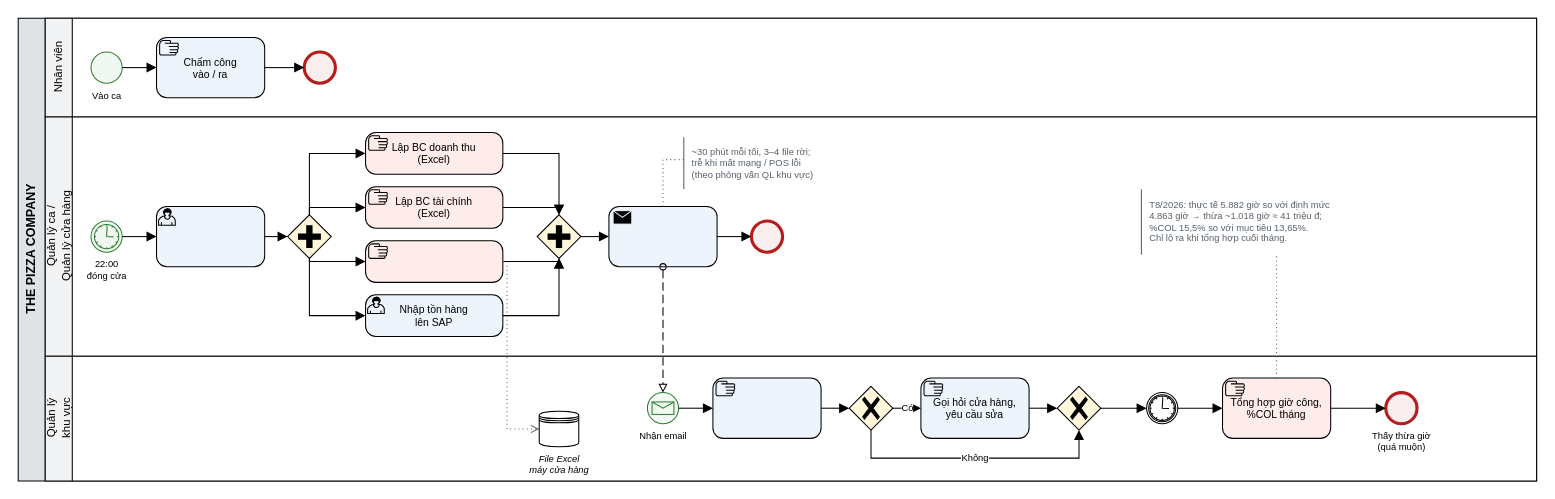
Some shapes in this 1555 by 499 pixel diagram are drawn without their labels. The centre of each missing label's shape, as x and y in pixels:
"Cuối tháng" goes at (x=1162, y=408).
"Ghi giờ công thực tế vào file (giả định)" goes at (x=434, y=261).
"Gửi email báo cáo" goes at (x=662, y=236).
"Hết ca" goes at (x=319, y=67).
"Lệch số?" goes at (x=870, y=407).
"Đóng ca trên POS" goes at (x=210, y=236).
"Đối chiếu với report hệ thống" goes at (x=766, y=407).
